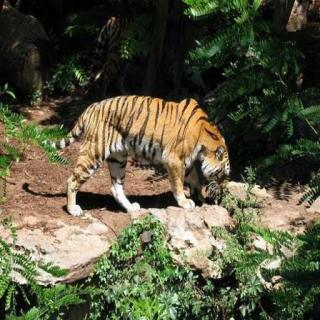Tiger: (35, 80, 243, 220)
